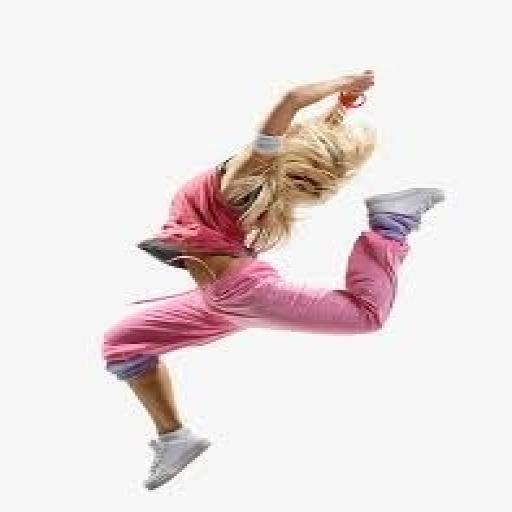dancing: (96, 64, 450, 494)
